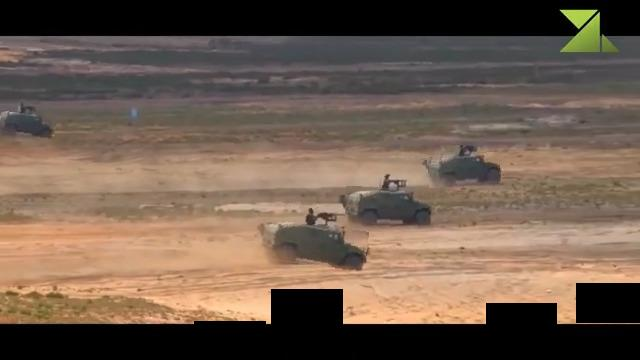MIL_HMMWV: (255, 220, 369, 269), (345, 187, 434, 228), (427, 153, 501, 187), (0, 112, 56, 137), (305, 206, 317, 225), (383, 172, 392, 188), (17, 100, 26, 112)
